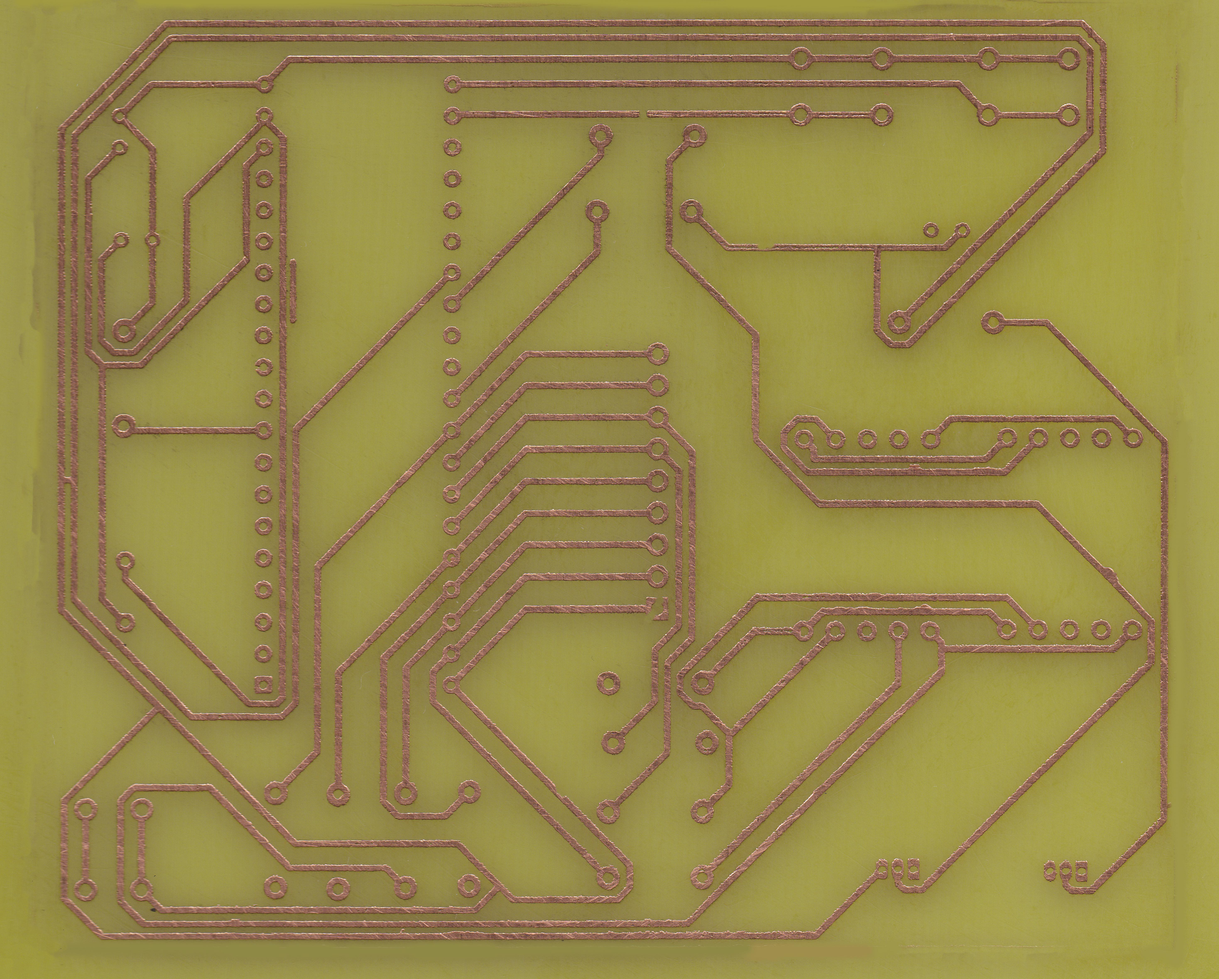missing_hole: (646, 597, 669, 621)
mouse_bite: (754, 243, 777, 251), (555, 785, 567, 799)
open_circuit: (634, 110, 652, 118)
short: (58, 471, 79, 488)
spur: (1105, 566, 1119, 581), (908, 463, 921, 474), (919, 603, 932, 613)
spurious_copper: (289, 258, 298, 325)
